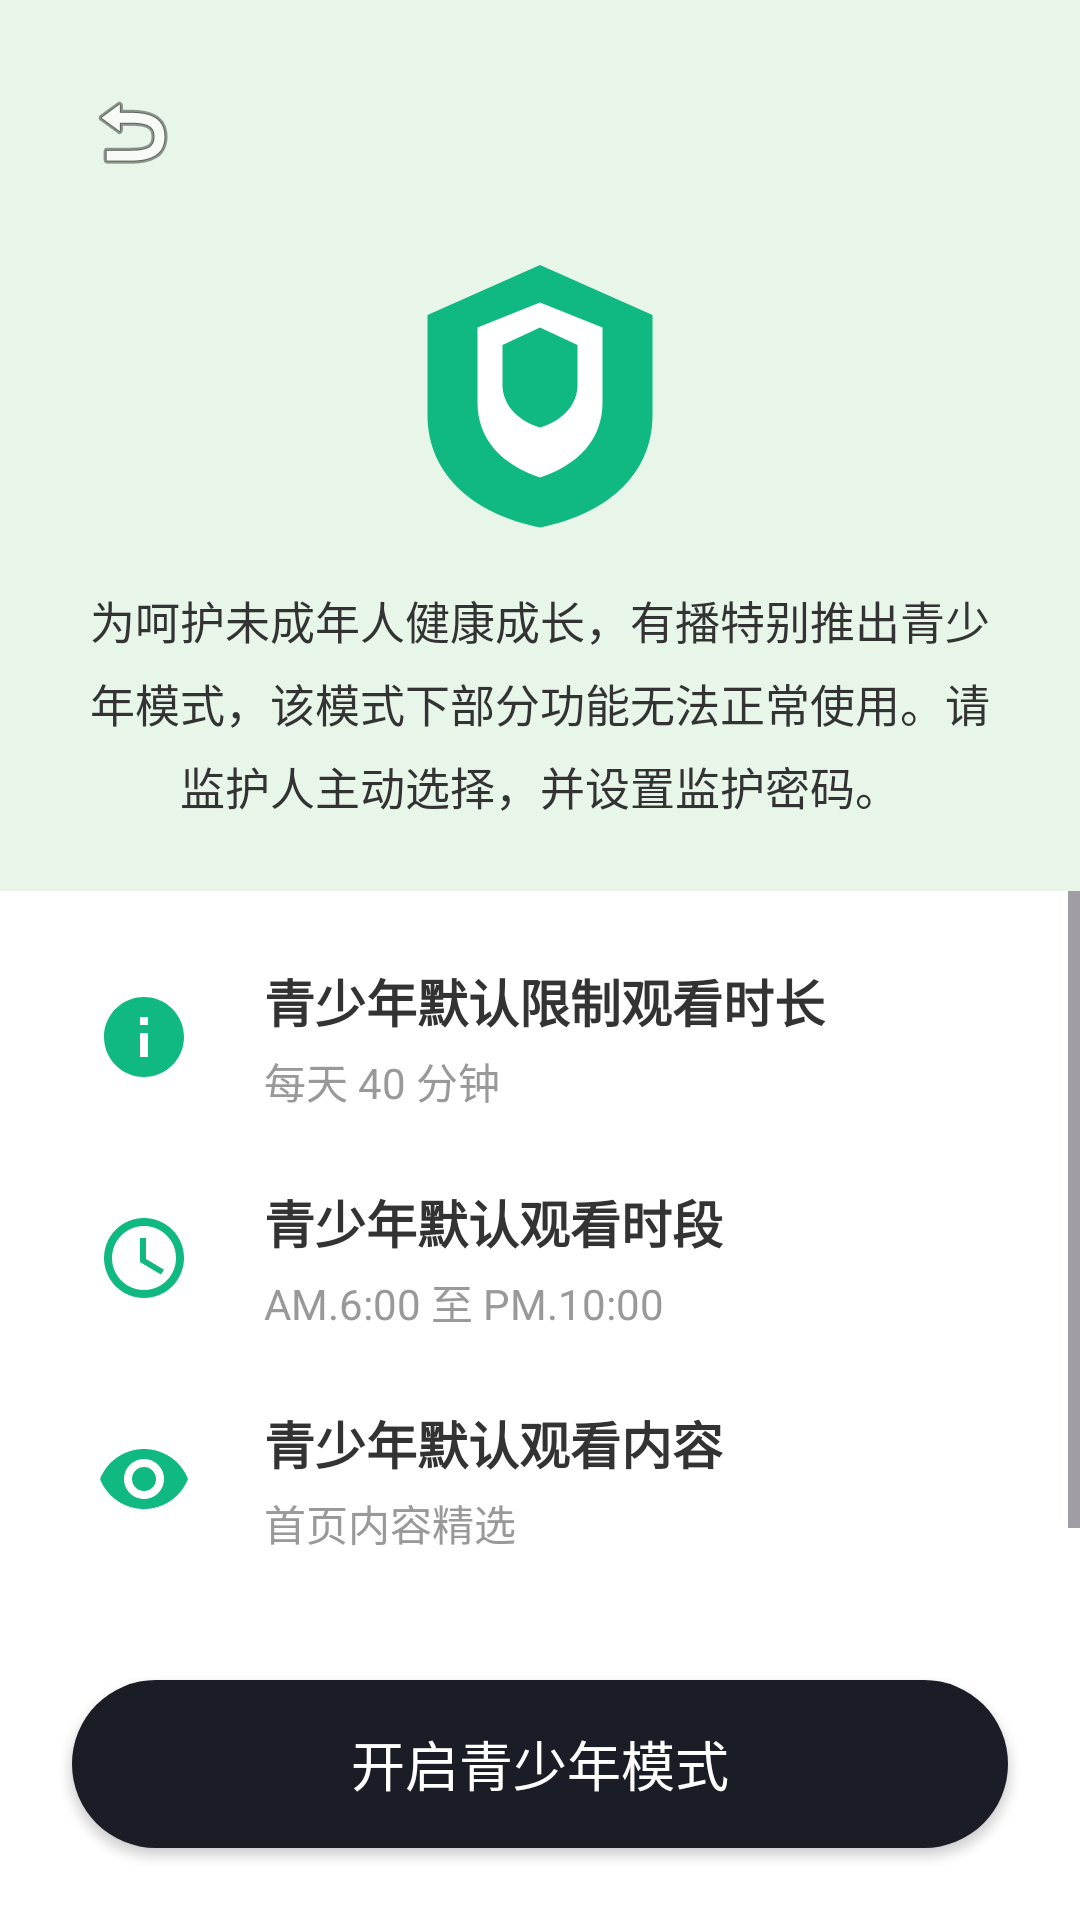

Where to tap for icons on this 1080px×1920px app screen, as [x,y]:
内容图标: [144,1479]
时段图标: [144,1258]
返回: [133,132]
青少年模式图标: [540,396]
